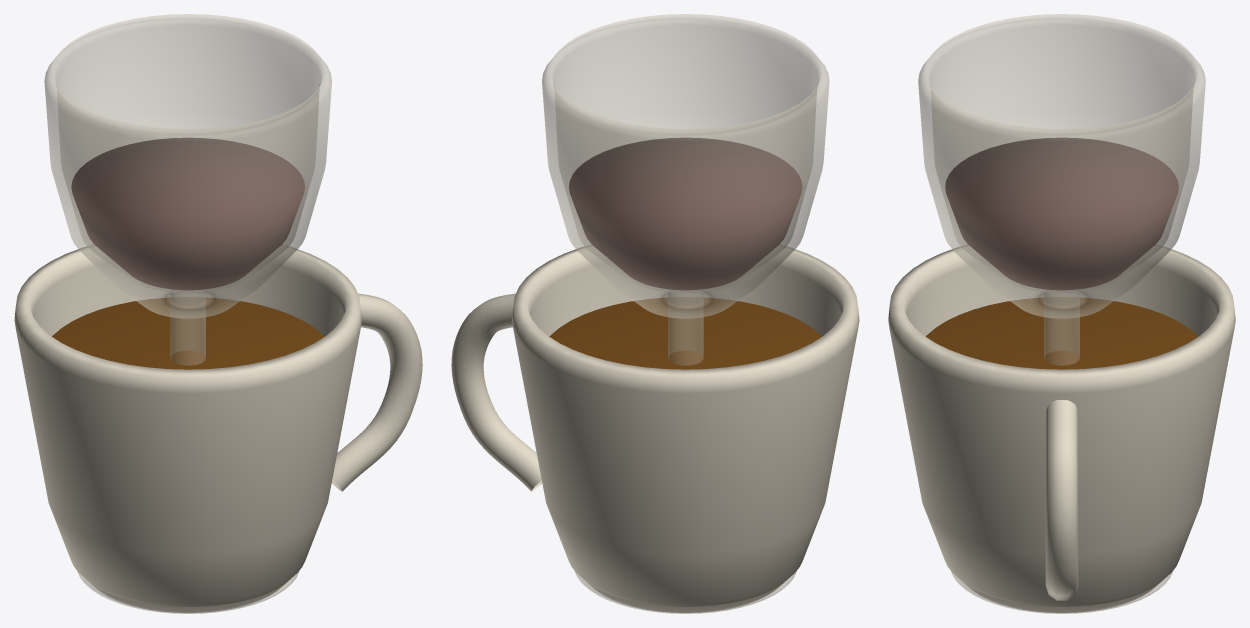
The model's file is props.glb.
3 views of the same model, side by side, from view 1: azimuth 30°, elevation 25°; view 2: azimuth 150°, elevation 25°; view 3: azimuth 270°, elevation 25° (orthographic).
Visible parts, largest first — view 1: TeaCup, WineGlass, Wine liquid, Tea liquid, Tea handle, Wine stem, Wine base; view 2: TeaCup, WineGlass, Wine liquid, Tea liquid, Tea handle, Wine stem, Wine base; view 3: TeaCup, WineGlass, Wine liquid, Tea liquid, Tea handle, Wine stem, Wine base.
Part boxes in pixels (x1=…): TeaCup: x1=14, y1=245, x2=361, y2=612; WineGlass: x1=44, y1=14, x2=331, y2=318; Wine liquid: x1=71, y1=138, x2=304, y2=289; Tea liquid: x1=52, y1=297, x2=324, y2=369; Tea handle: x1=331, y1=293, x2=422, y2=491; Wine stem: x1=170, y1=292, x2=205, y2=365; Wine base: x1=77, y1=571, x2=299, y2=613; TeaCup: x1=512, y1=245, x2=859, y2=612; WineGlass: x1=542, y1=14, x2=829, y2=318; Wine liquid: x1=569, y1=138, x2=802, y2=289; Tea liquid: x1=549, y1=297, x2=821, y2=369; Tea handle: x1=451, y1=293, x2=542, y2=491; Wine stem: x1=668, y1=292, x2=703, y2=365; Wine base: x1=574, y1=571, x2=796, y2=613; TeaCup: x1=888, y1=245, x2=1235, y2=612; WineGlass: x1=918, y1=14, x2=1205, y2=318; Wine liquid: x1=945, y1=138, x2=1178, y2=289; Tea liquid: x1=926, y1=297, x2=1197, y2=369; Tea handle: x1=1045, y1=400, x2=1078, y2=600; Wine stem: x1=1044, y1=292, x2=1079, y2=365; Wine base: x1=951, y1=571, x2=1172, y2=613.
Size of the model in its own units: 0.2946 by 0.367 by 0.232.
